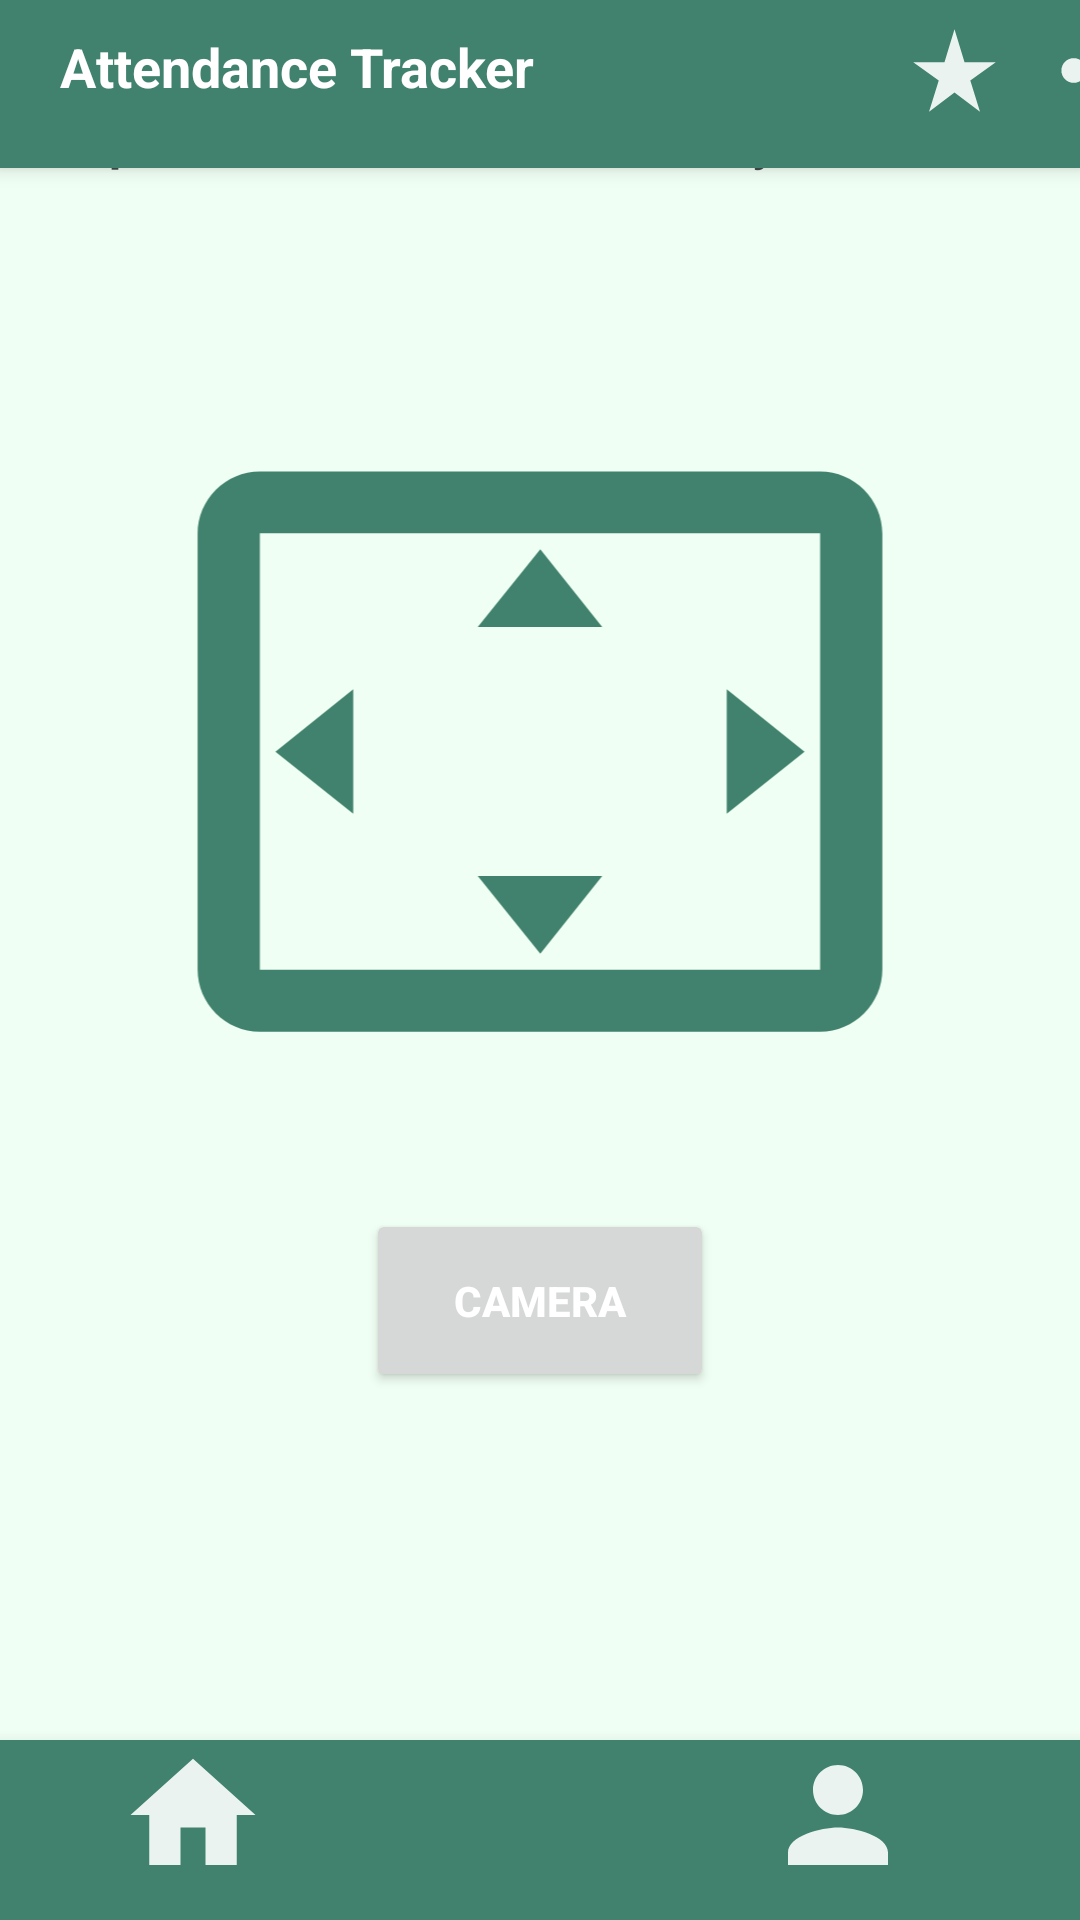

Icons on this 1080px×1920px Android screen, each with its box as (x1=x1, y1=y1, x2=x2, y2=y2):
home: (x1=131, y1=1759, x2=255, y2=1865)
person: (x1=788, y1=1765, x2=888, y2=1865)
rating: (x1=913, y1=29, x2=996, y2=112)
